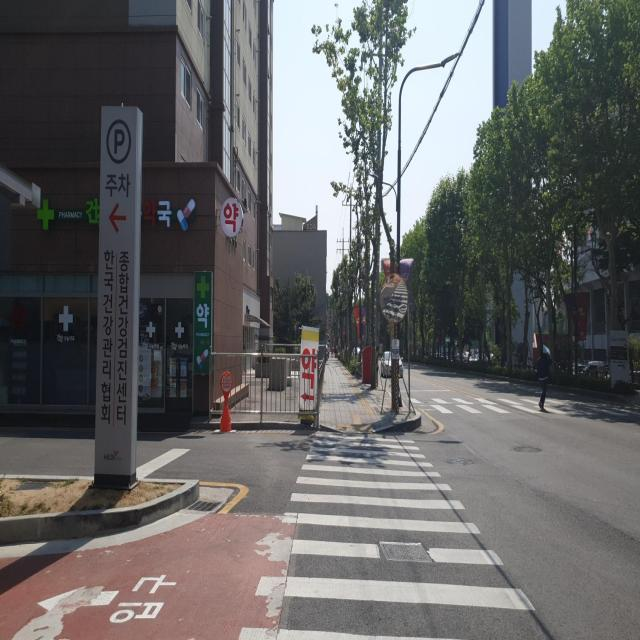횡단보도: (236, 430, 536, 640), (405, 394, 640, 420)
